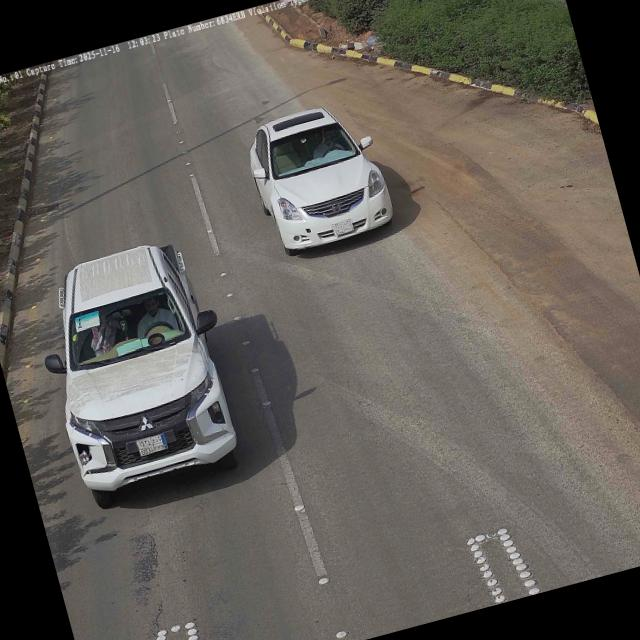person_with_seatbelt: (306, 124, 345, 161)
person_without_seatbelt: (128, 293, 178, 341)
